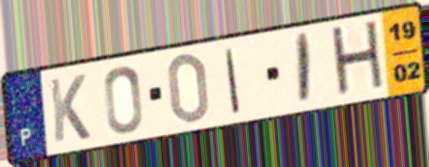0: (165, 51, 212, 126), (101, 63, 146, 137)
H: (328, 17, 389, 102)
I: (223, 46, 243, 115), (296, 30, 312, 107)
K: (46, 72, 93, 145)
